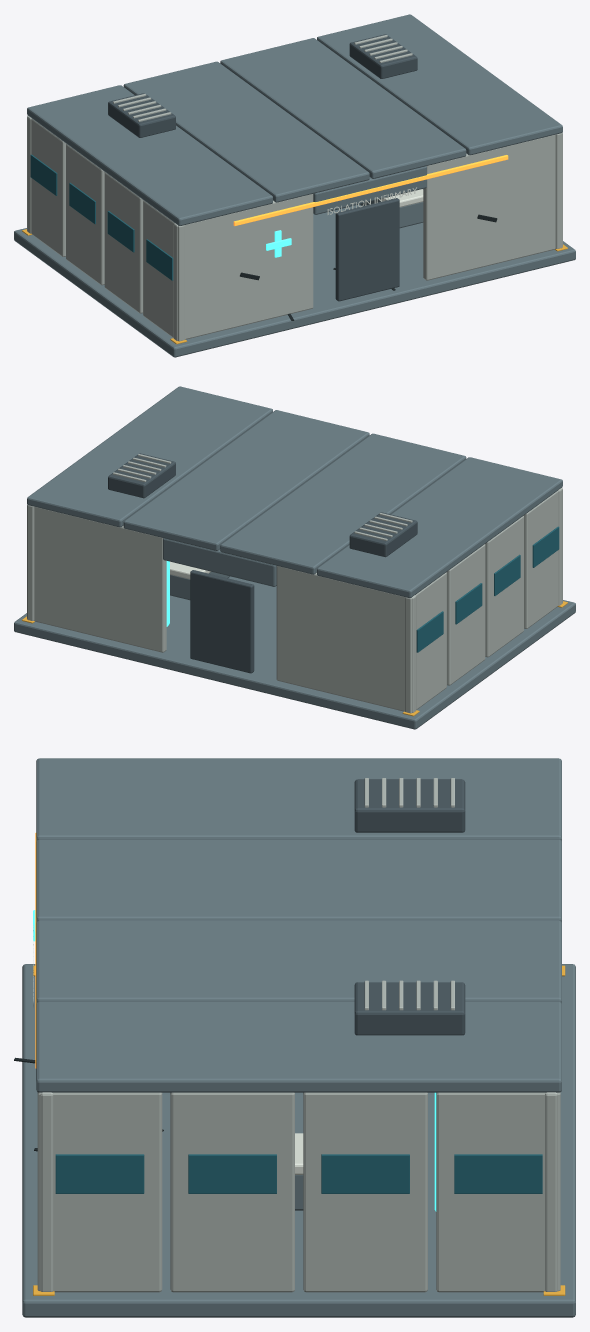
The model's file is personnel_infirmary_d1.glb.
3 renders of one model, top to bottom at view 1: azimuth 30°, elevation 25°; view 2: azimuth 150°, elevation 25°; view 3: azimuth 270°, elevation 25°, orthographic. The views are drawn at different scales.
Visible parts, largest first — view 1: Removable roof segment.026, End bulkhead.033, Removable roof segment.025, End bulkhead.032, Removable roof segment.024, Removable roof segment.027, Foundation.009, Sealed airlock.010, Side pressure panel.055, Side pressure panel.056, Side pressure panel.054, Side pressure panel.057 (+11 smaller); view 2: End bulkhead.034, End bulkhead.035, Removable roof segment.026, Removable roof segment.025, Removable roof segment.024, Removable roof segment.027, Foundation.009, Sealed airlock.011, Side pressure panel.056, Side pressure panel.055, Side pressure panel.057, Side pressure panel.054 (+10 smaller); view 3: Removable roof segment.027, Removable roof segment.025, Removable roof segment.026, Removable roof segment.024, Foundation.009, Side pressure panel.059, Side pressure panel.060, Side pressure panel.058, Side pressure panel.061, Roof heat exchanger.012, Roof heat exchanger.013, Observation glass.052 (+5 smaller).
Boxes of the visible parts, <box> form: Removable roof segment.026: <box>220,38,466,178</box>; End bulkhead.033: <box>423,132,562,280</box>; Removable roof segment.025: <box>123,61,369,202</box>; End bulkhead.032: <box>173,194,313,340</box>; Removable roof segment.024: <box>27,85,272,225</box>; Removable roof segment.027: <box>317,14,562,155</box>; Foundation.009: <box>14,189,575,357</box>; Sealed airlock.010: <box>335,198,399,301</box>; Side pressure panel.055: <box>104,172,143,313</box>; Side pressure panel.056: <box>66,144,104,285</box>; Side pressure panel.054: <box>143,200,184,341</box>; Side pressure panel.057: <box>27,115,65,256</box>; End bulkhead.034: <box>276,566,416,712</box>; End bulkhead.035: <box>27,504,166,652</box>; Removable roof segment.026: <box>123,410,369,550</box>; Removable roof segment.025: <box>220,433,466,574</box>; Removable roof segment.024: <box>317,457,562,597</box>; Removable roof segment.027: <box>27,386,272,527</box>; Foundation.009: <box>14,576,575,729</box>; Sealed airlock.011: <box>190,570,254,673</box>; Side pressure panel.056: <box>446,544,485,685</box>; Side pressure panel.055: <box>485,516,523,657</box>; Side pressure panel.057: <box>405,572,446,713</box>; Side pressure panel.054: <box>524,487,562,628</box>; Removable roof segment.027: <box>36,1001,561,1092</box>; Removable roof segment.025: <box>36,839,561,922</box>; Removable roof segment.026: <box>36,920,561,1003</box>; Removable roof segment.024: <box>36,758,561,841</box>; Foundation.009: <box>22,964,575,1317</box>; Side pressure panel.059: <box>170,1092,294,1292</box>; Side pressure panel.060: <box>303,1092,427,1292</box>; Side pressure panel.058: <box>37,1092,162,1292</box>; Side pressure panel.061: <box>436,1092,560,1292</box>; Roof heat exchanger.012: <box>354,779,465,832</box>; Roof heat exchanger.013: <box>354,982,465,1035</box>; Observation glass.052: <box>55,1154,144,1193</box>.
Size of the model in its own units: 13 by 4.61 by 9.14.
